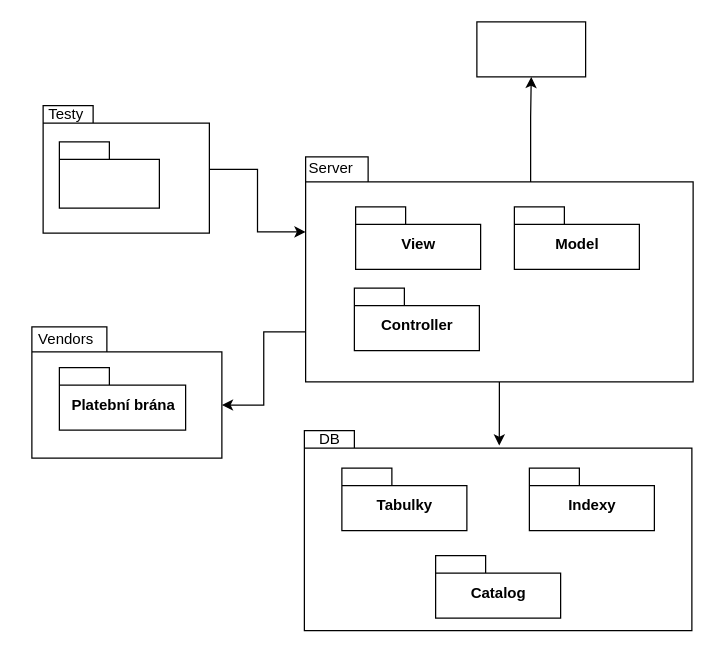
The diagram is 715 pixels wide and 653 high, and some of its shapes have lost their labels. Each missing label, with the centre of its shape:
Unit testy: point 108,174
Uživatelské rozhraní: point 531,49
